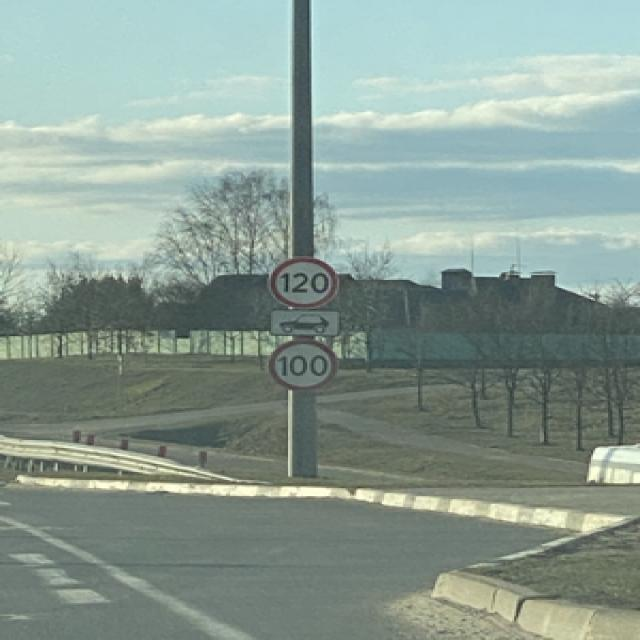speedlimit: (264, 338, 335, 390), (264, 256, 335, 307)
